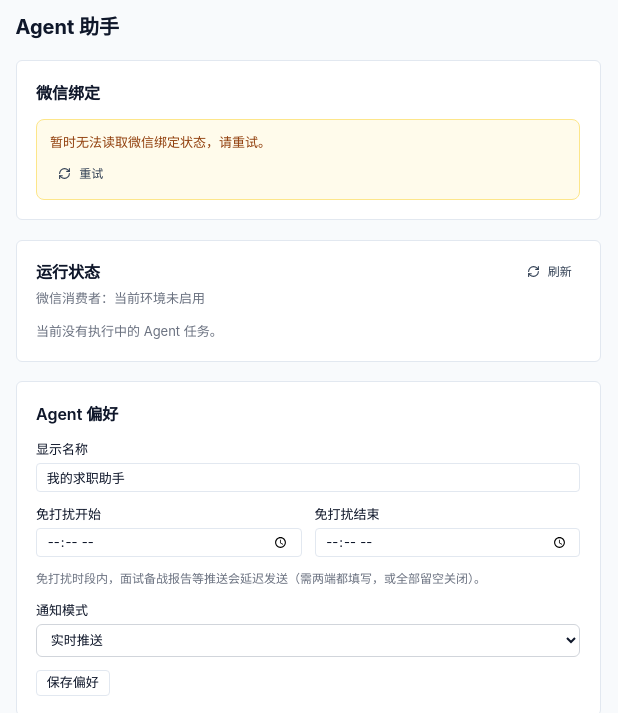
AgentSettings binding state › does not represent an API failure as an unbound account
Check: the message shows "暂时无法读取微信绑定状态", box [50,134,271,150]
Check: the button "获取绑定二维码" is not shown
Click the button "重试" at (81, 174), box [50,162,111,185]
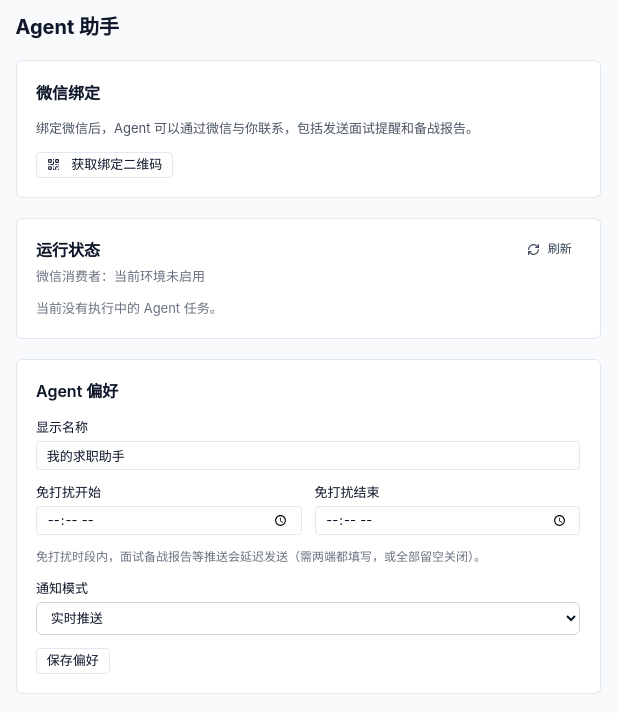
Check: the button "获取绑定二维码" is shown, box [36,152,173,178]
